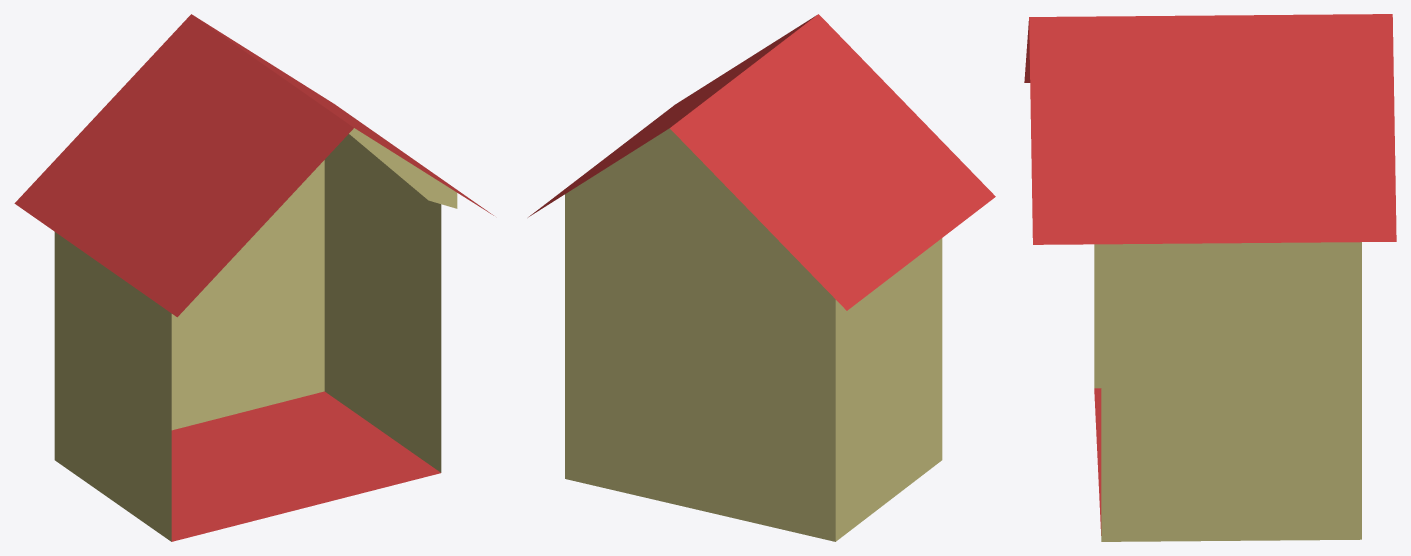
The picture shows the model from 3 angles, left to right: view 1: azimuth 30°, elevation 25°; view 2: azimuth 150°, elevation 25°; view 3: azimuth 270°, elevation 25°; orthographic projection. The views are drawn at different scales.
Bounding box in the file's own units: 12.94 × 10.98 × 14.91.
